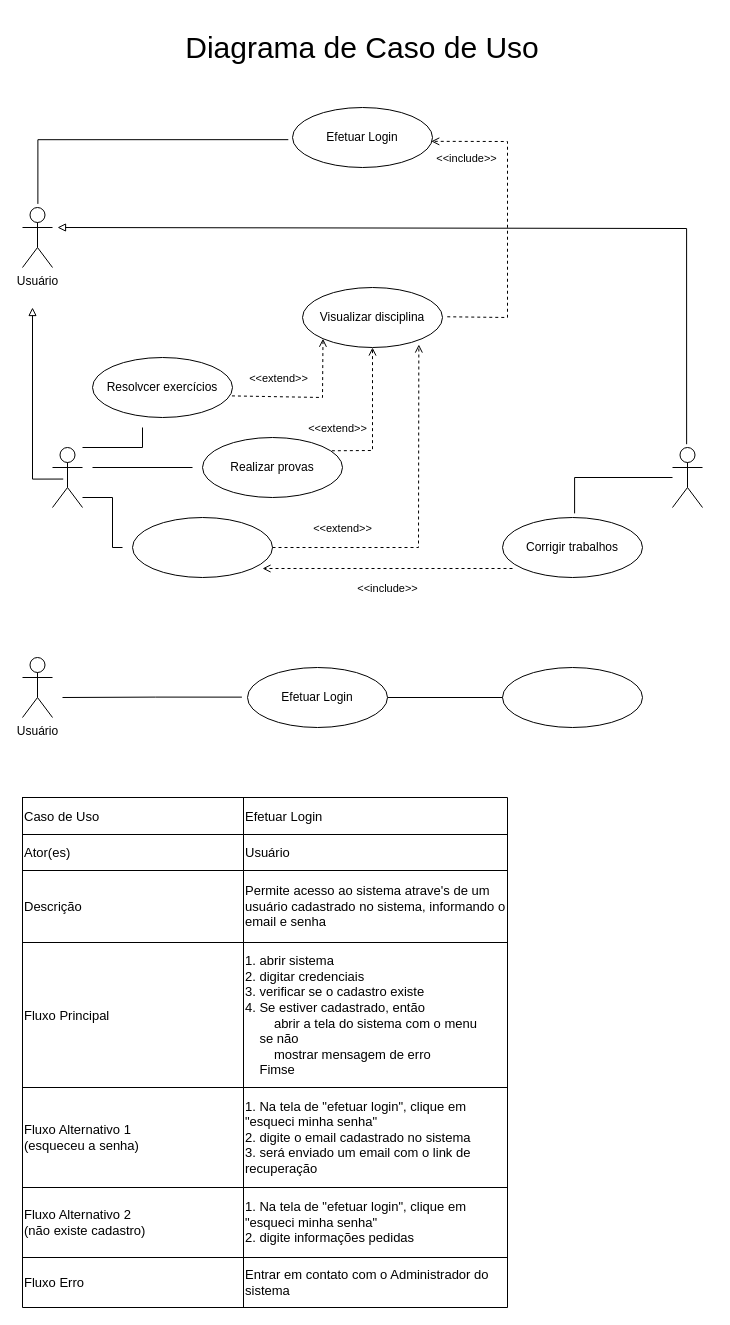
Some shapes in this 730 by 1325 pixel diagram are drawn without their labels. Each missing label, with the centre of its shape:
Aluno: (67,477)
Postar trabalhos: (202,547)
Professor: (687,477)
Registrar Cadastro: (572,697)
